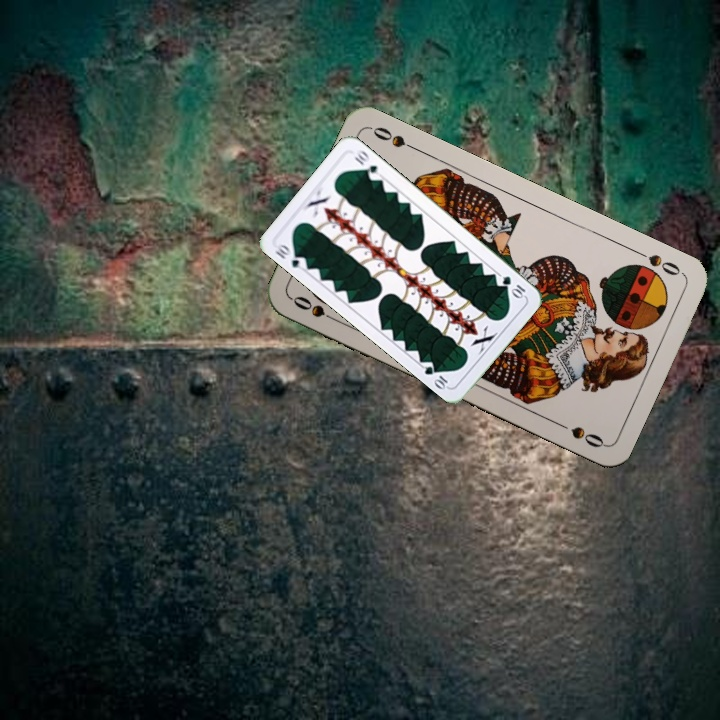G10: (271, 240, 310, 273), (498, 272, 529, 301)
SO: (289, 292, 344, 326), (630, 246, 686, 279)
